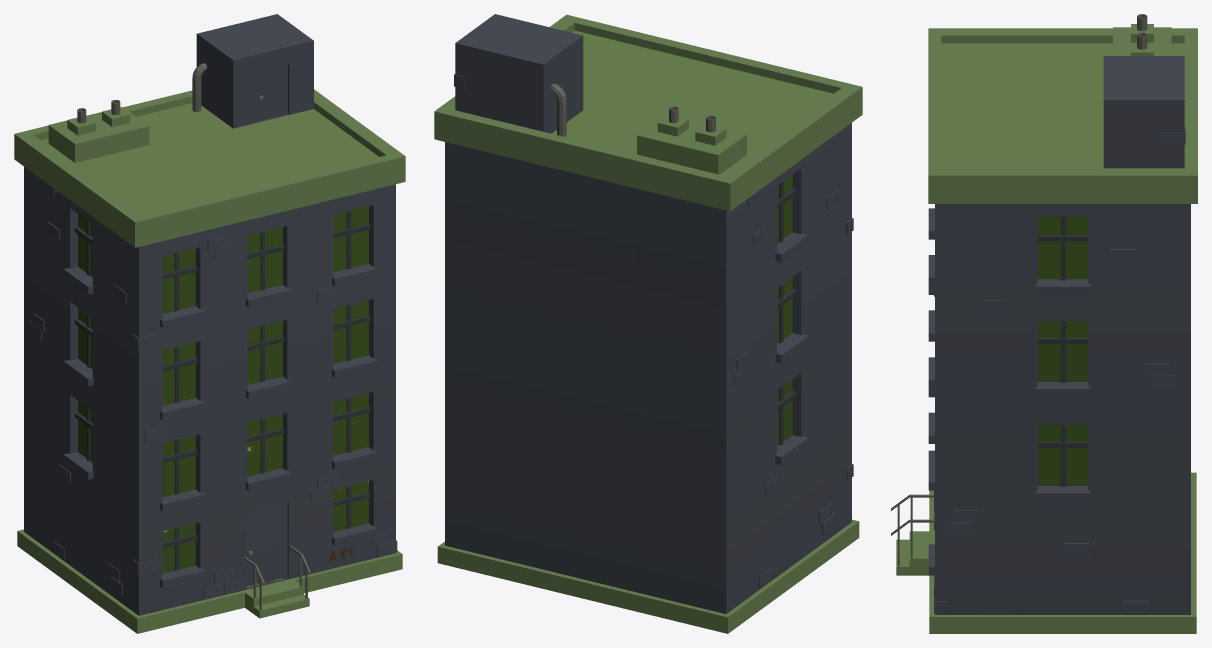
Rendered from OldHouse_05.fbx.
The picture shows the model from 3 angles, left to right: view 1: azimuth 30°, elevation 25°; view 2: azimuth 150°, elevation 25°; view 3: azimuth 270°, elevation 25°; orthographic projection. The views are drawn at different scales.
Parts seen in each view (by area): view 1: OldHouse_05; view 2: OldHouse_05; view 3: OldHouse_05.
Boxes of the visible parts, bbox=[...] form: OldHouse_05: bbox=[14, 14, 405, 633]; OldHouse_05: bbox=[434, 14, 862, 633]; OldHouse_05: bbox=[891, 14, 1197, 633].
Size of the model in its own units: 7.14 by 11.96 by 6.29.
